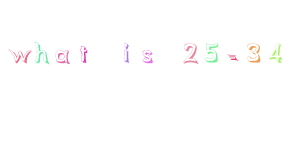-: (227, 52, 239, 62)
2: (182, 41, 199, 64)
3: (246, 42, 261, 64)
4: (268, 42, 282, 63)
5: (204, 41, 219, 62)
a: (54, 49, 70, 64)
h: (35, 41, 49, 63)
i: (121, 42, 131, 63)
s: (141, 49, 153, 63)
t: (79, 43, 88, 64)
w: (8, 48, 32, 63)
